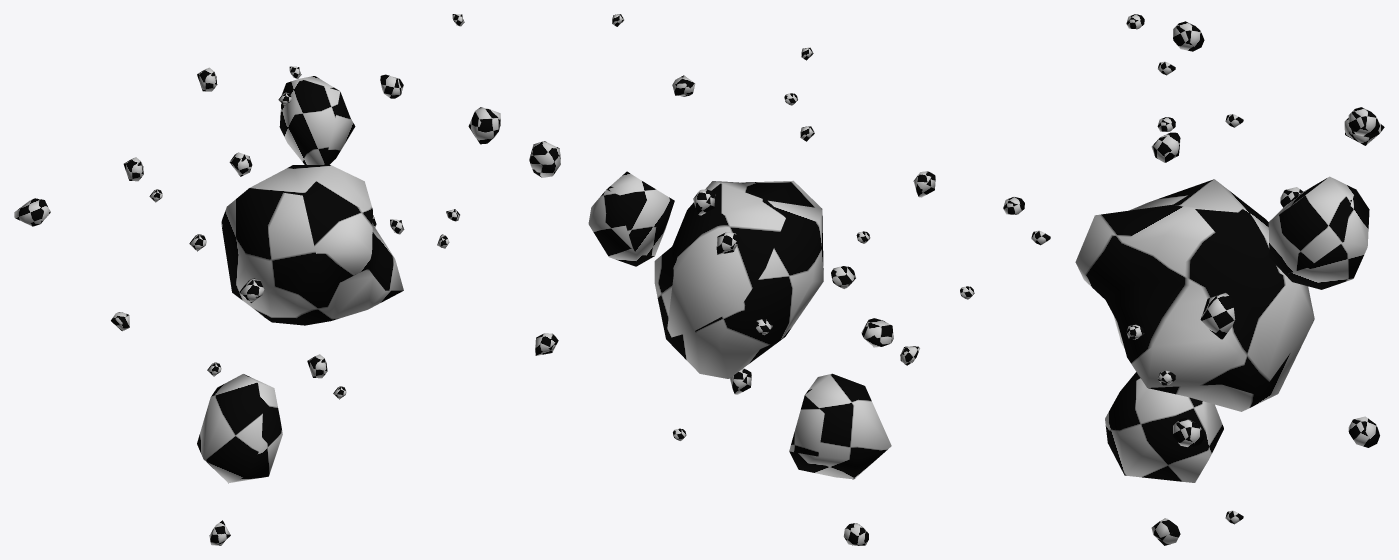
The model's file is zone_asteroid_low3.obj.
3 views of the same model, side by side, from view 1: azimuth 30°, elevation 25°; view 2: azimuth 150°, elevation 25°; view 3: azimuth 270°, elevation 25° (orthographic). The views are drawn at different scales.
Visible parts, largest first — view 1: low_asteroidc; view 2: low_asteroidc; view 3: low_asteroidc.
Boxes of the visible parts, x1=… form: low_asteroidc: x1=14, y1=14, x2=500, y2=545; low_asteroidc: x1=529, y1=14, x2=974, y2=545; low_asteroidc: x1=1003, y1=14, x2=1384, y2=545.
Size of the model in its own units: 268 by 286 by 174.
Materials: 1 (1 with a texture image).
